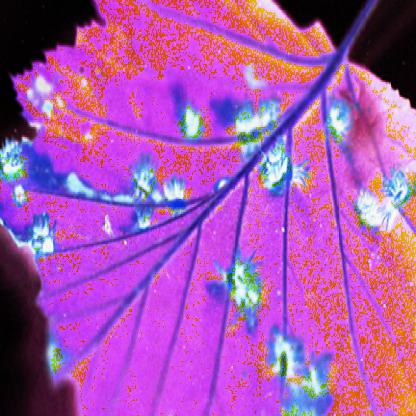Apple rust leaf: (1, 2, 415, 414)
